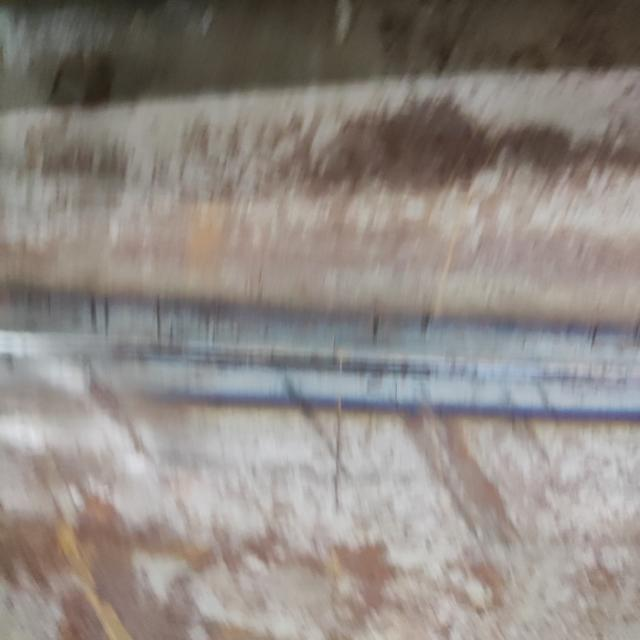seam: (0, 269, 640, 426)
